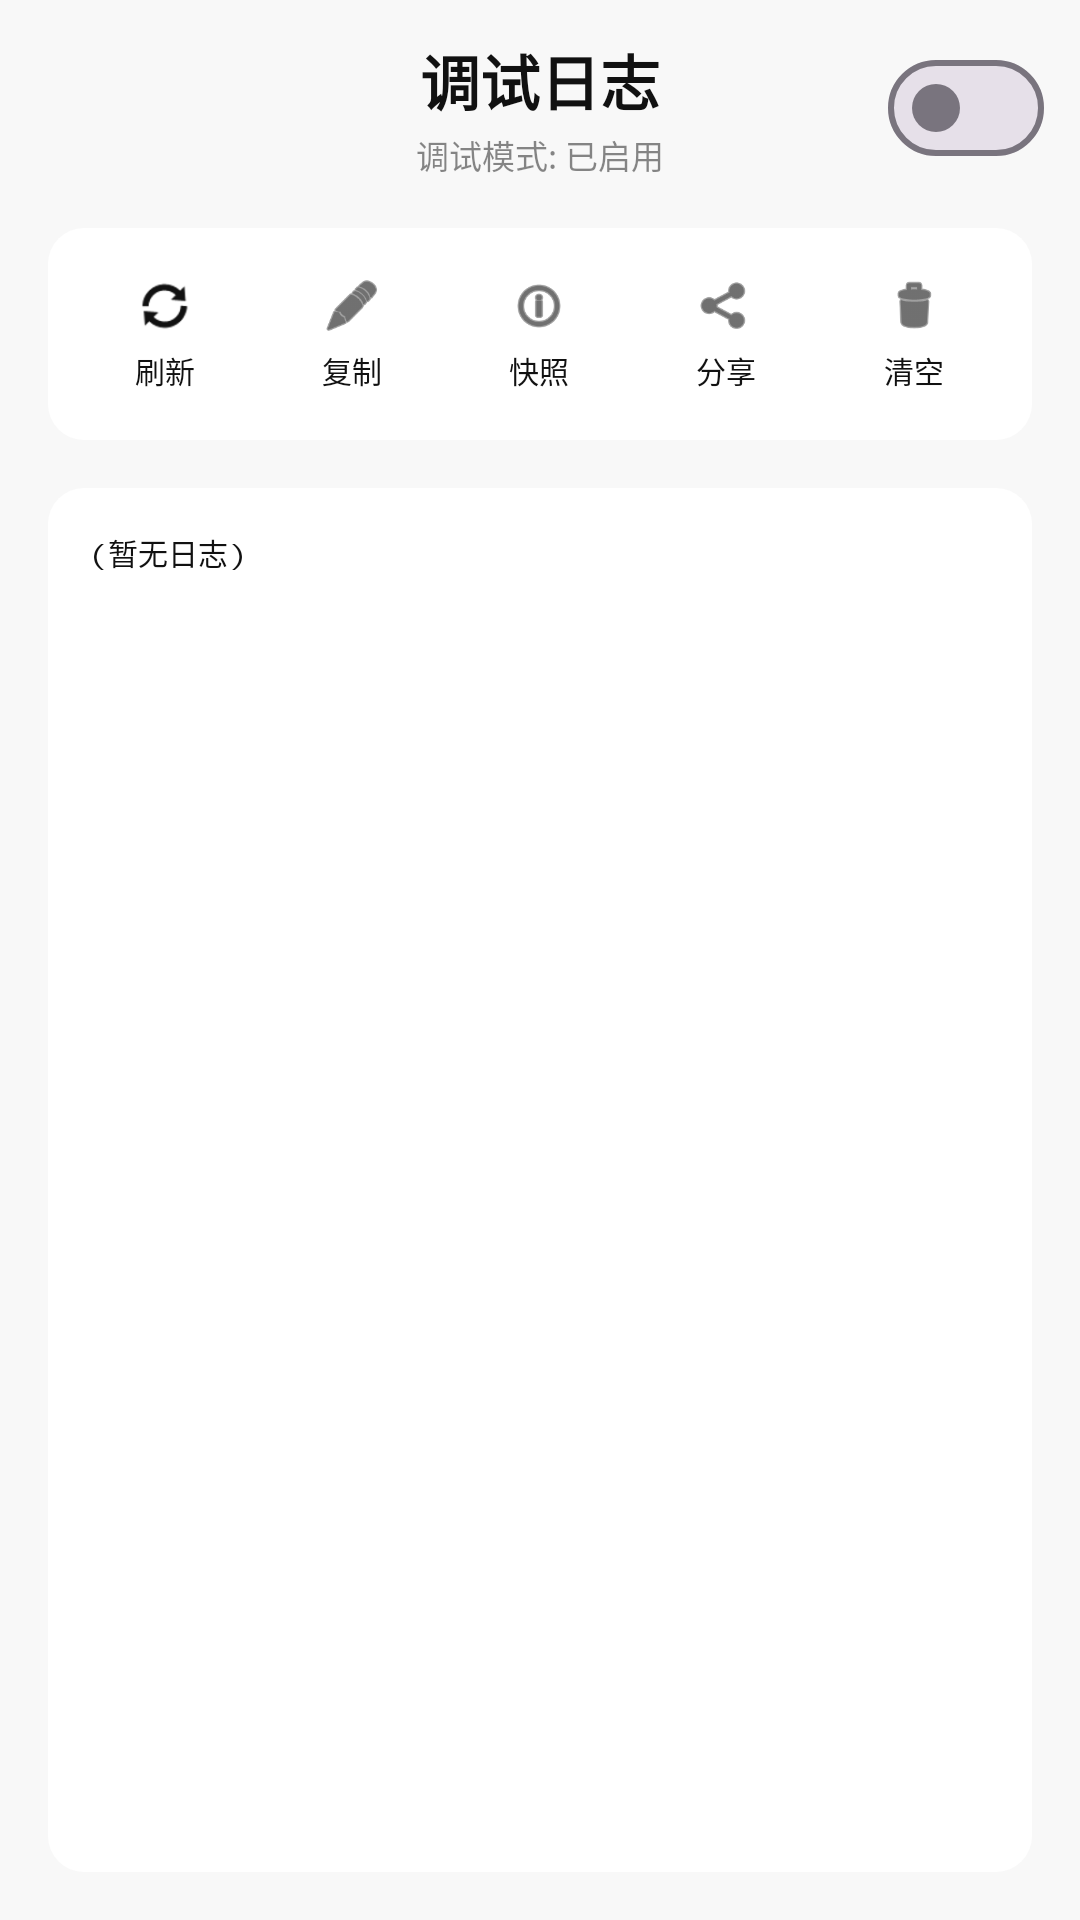

Icon bounding boxes for this 1080px×1920px phone screenshot, format (x1, y1, x2, y2):
delete: (897, 282, 931, 329)
edit: (326, 280, 377, 331)
info details: (517, 284, 561, 328)
popup sync: (142, 283, 188, 329)
